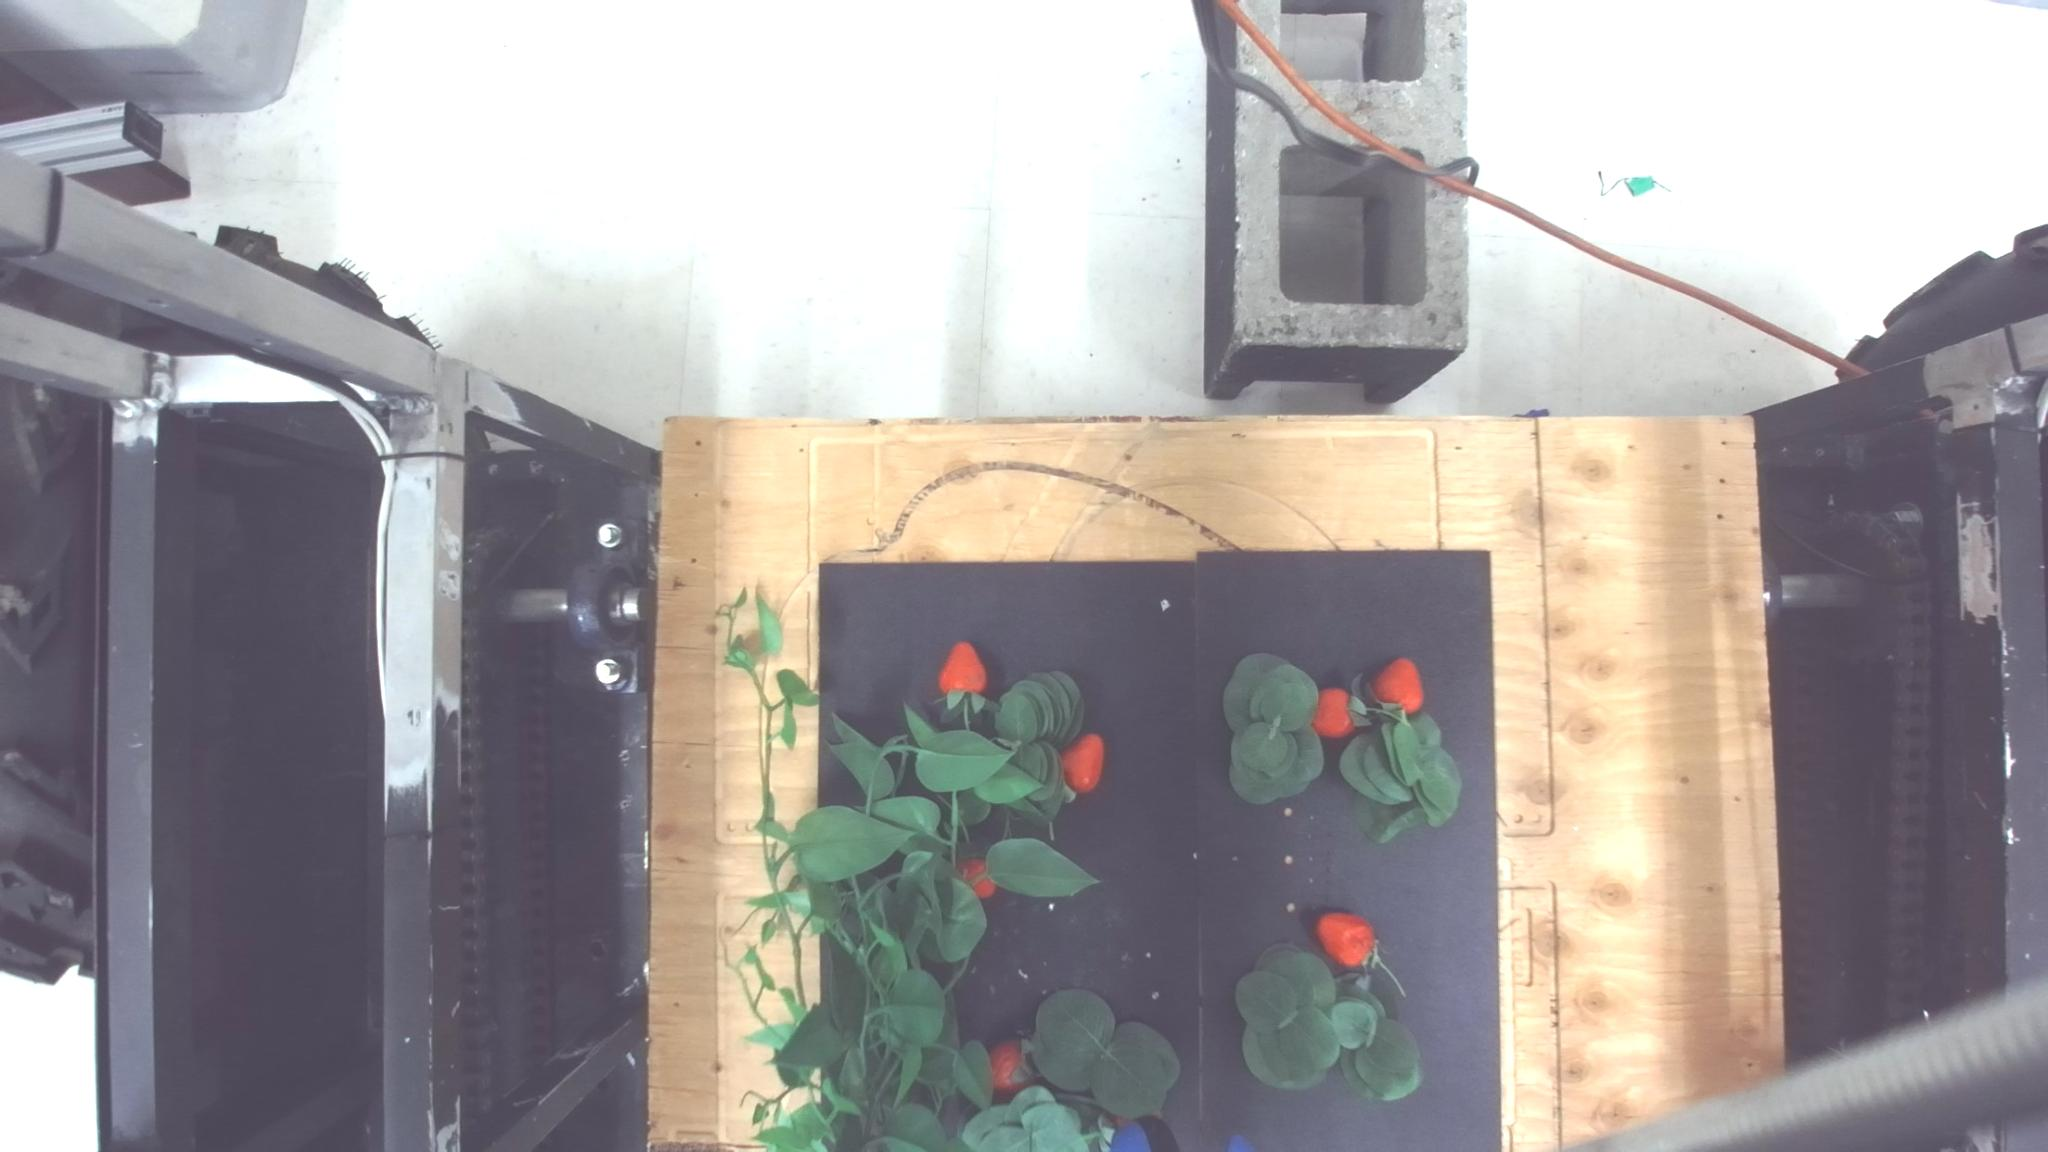strawberry: (1315, 910, 1376, 968), (1370, 655, 1425, 716), (937, 640, 987, 696), (989, 1038, 1035, 1097), (1059, 731, 1104, 792), (1310, 686, 1356, 737), (955, 855, 996, 899)
